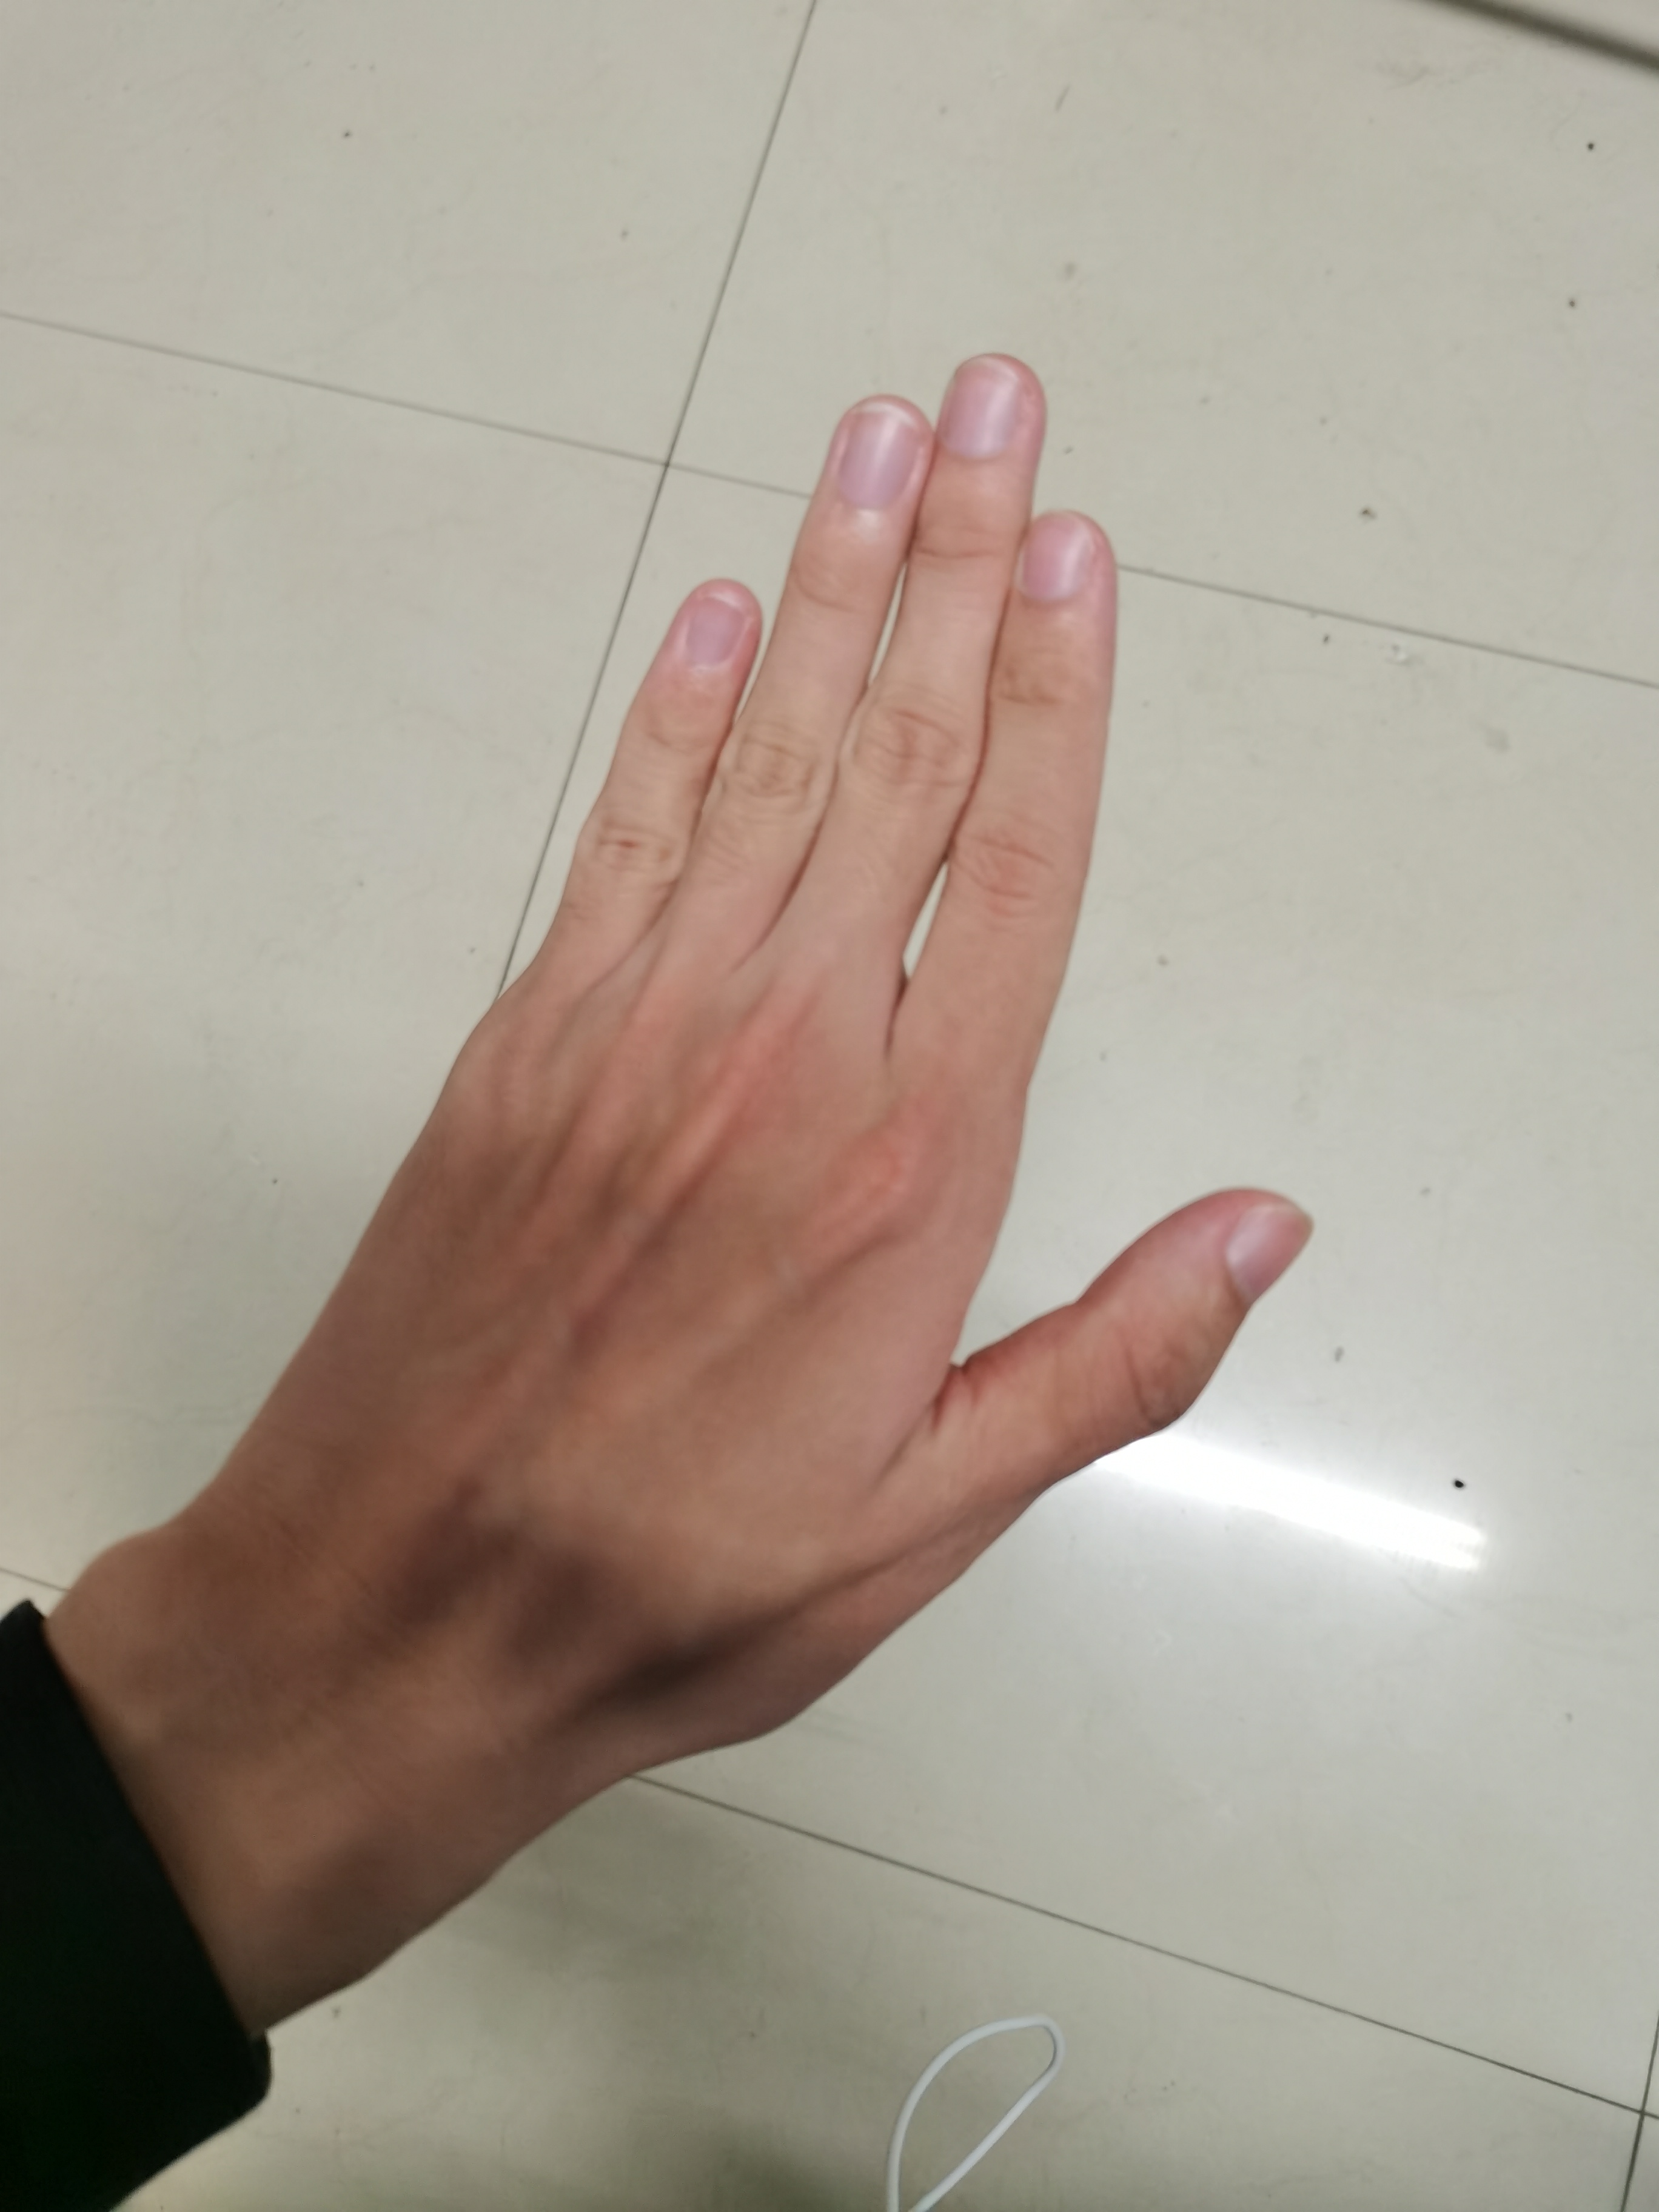no-phone: (209, 310, 1391, 1804)
